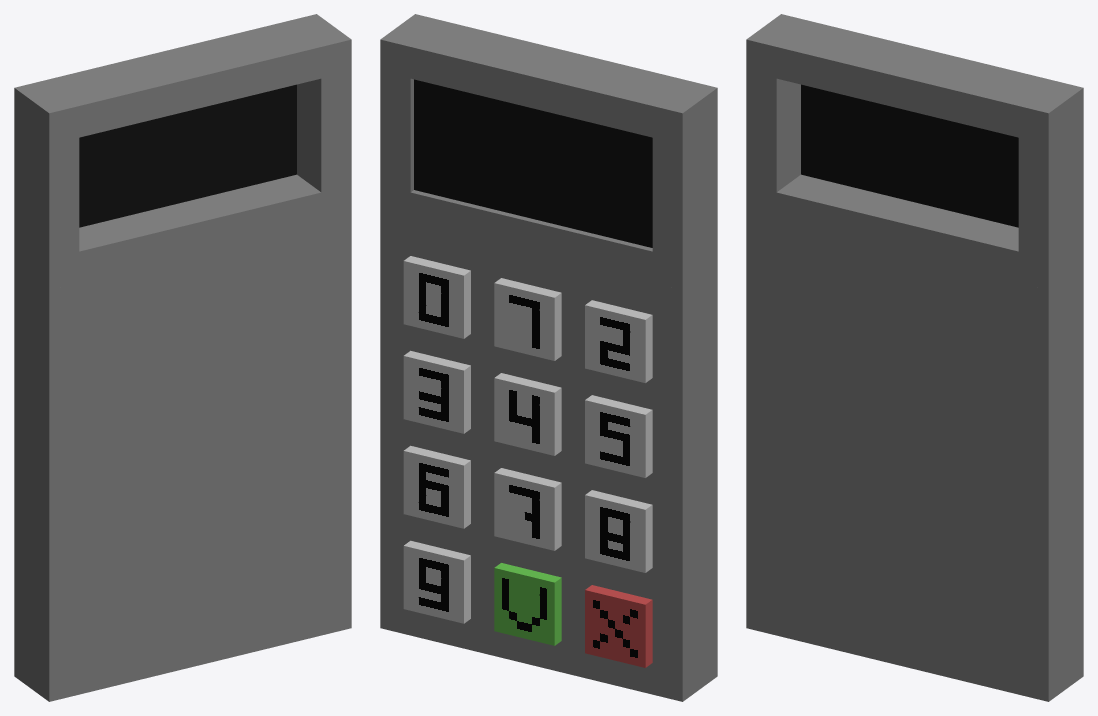
File: keypaddec.fbx
3 views of the same model, side by side, from view 1: azimuth 30°, elevation 25°; view 2: azimuth 150°, elevation 25°; view 3: azimuth 330°, elevation 25° (orthographic).
Parts seen in each view (by area): view 1: cube, cube_3, cube_6, cube_5, cube_2, cube_4; view 2: cube, cube_3, cube_6, cube_2, cube_5, cube_4, cube_15, cube_16, cube_10, cube_14, cube_17, cube_1 (+6 smaller); view 3: cube, cube_3, cube_6, cube_5, cube_4, cube_2.
Boxes of the visible parts, box(x1,y1,x2,y2) form: cube: box(14, 217, 351, 701); cube_3: box(79, 84, 296, 227); cube_6: box(45, 21, 321, 137); cube_5: box(79, 174, 321, 282); cube_2: box(14, 80, 79, 290); cube_4: box(287, 14, 351, 223); cube: box(380, 217, 717, 701); cube_3: box(414, 79, 652, 247); cube_6: box(410, 21, 686, 137); cube_2: box(652, 80, 717, 290); cube_5: box(410, 190, 652, 282); cube_4: box(380, 14, 444, 223); cube_15: box(585, 490, 652, 572); cube_16: box(494, 563, 561, 645); cube_10: box(494, 468, 561, 550); cube_14: box(403, 540, 470, 623); cube_17: box(585, 585, 652, 667); cube_1: box(403, 256, 470, 338); cube: box(746, 217, 1083, 701); cube_3: box(801, 84, 1018, 227); cube_6: box(776, 21, 1052, 137); cube_5: box(776, 174, 1018, 282); cube_4: box(1018, 80, 1083, 290); cube_2: box(746, 14, 810, 223).
Size of the model in its own units: 15.62 by 29.06 by 3.75.
14 materials, 14 textured.
